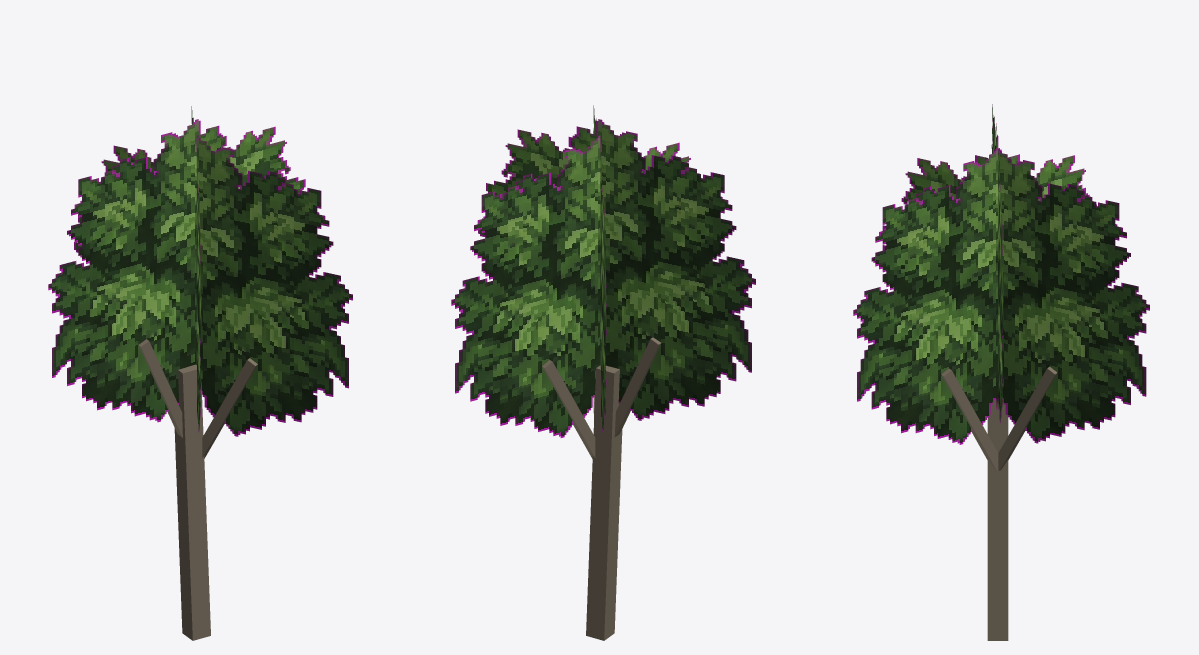
Rendered from city_tree_3.glb.
3 renders of one model, left to right at view 1: azimuth 30°, elevation 25°; view 2: azimuth 150°, elevation 25°; view 3: azimuth 270°, elevation 25°, orthographic. The views are drawn at different scales.
Parts seen in each view (by area): view 1: city_tree_3; view 2: city_tree_3; view 3: city_tree_3.
Part boxes in pixels (x1,y1,x2,y2): city_tree_3: [48, 106, 352, 640]; city_tree_3: [451, 105, 755, 640]; city_tree_3: [853, 104, 1149, 640].
Size of the model in its own units: 3.2 by 5.15 by 3.19.
2 materials, 1 textured.
